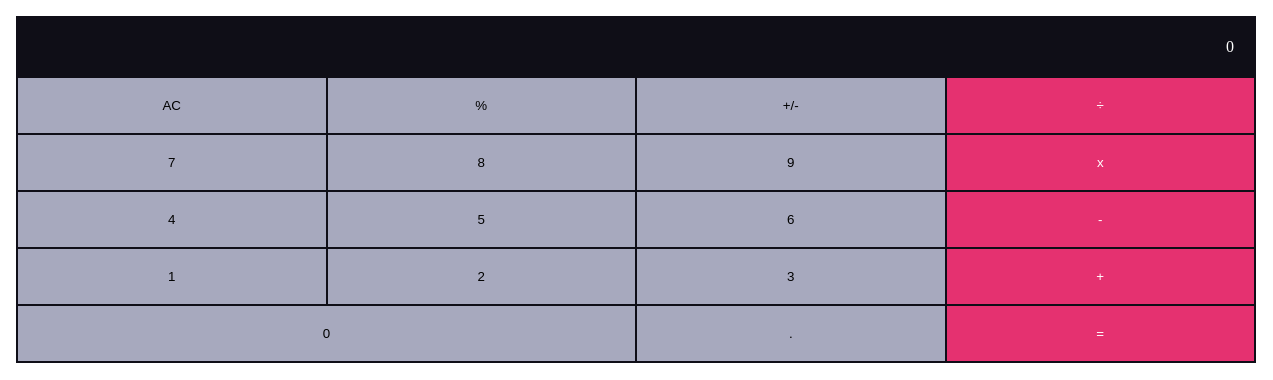
Test: Testing user interactions › Testing the multiply operation
Click the button "7". click: (172, 162)
box: [17, 134, 326, 191]
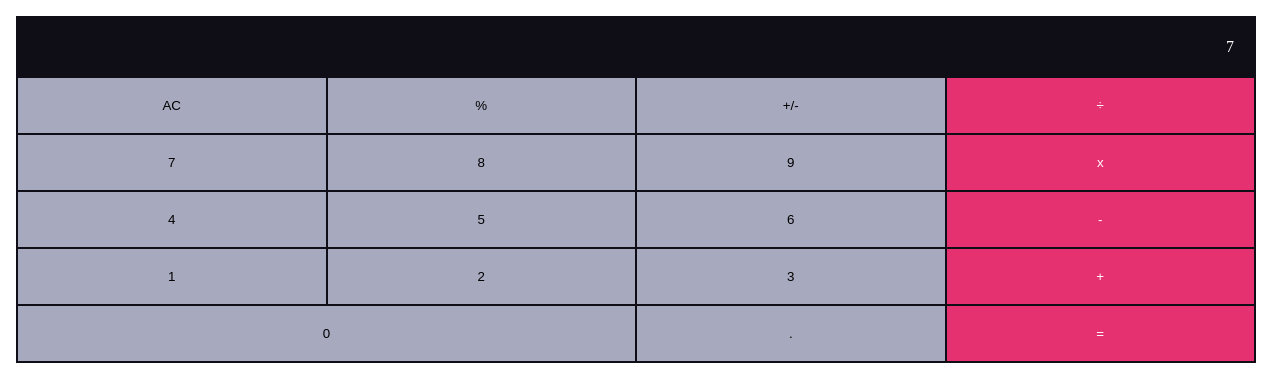
Click the button "x". click: (1100, 162)
box: [946, 134, 1255, 191]
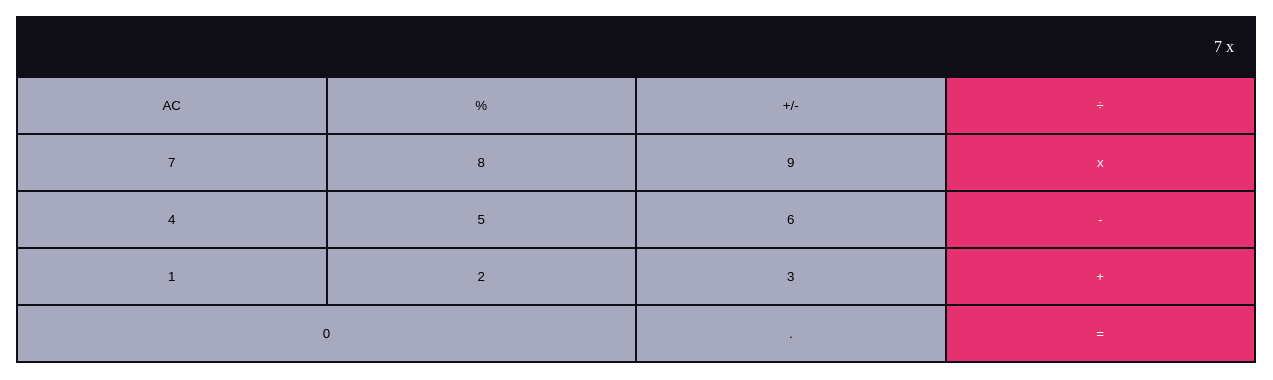
Click the button "7". click: (172, 162)
box: [17, 134, 326, 191]
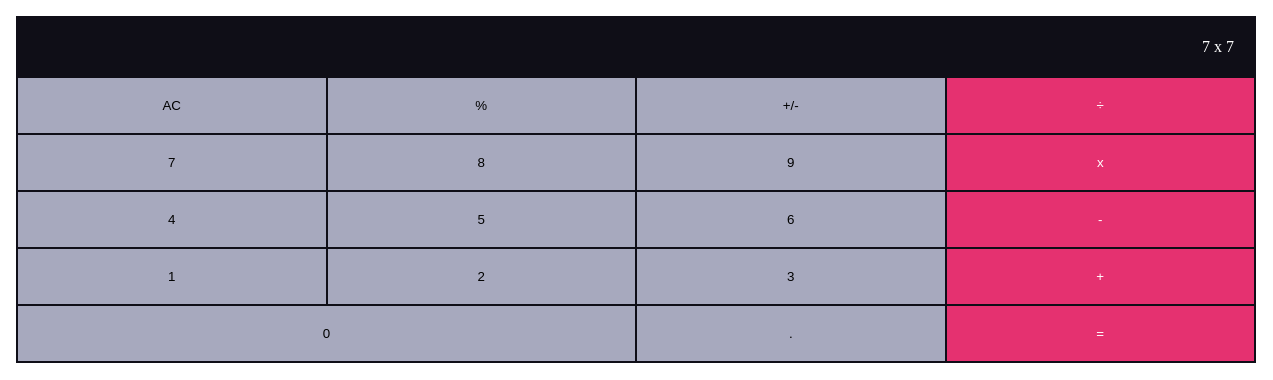
Click the button "=". click: (1100, 334)
box: [946, 305, 1255, 362]
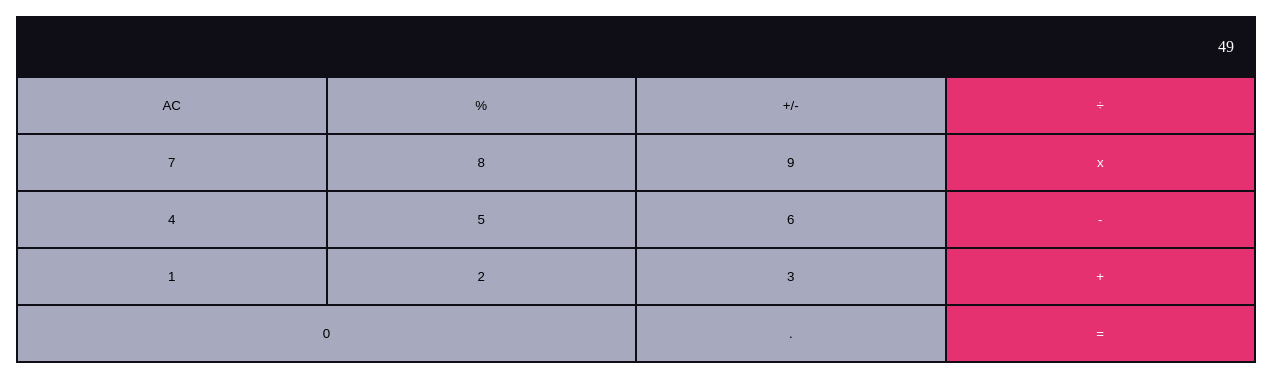
Now the text with test id "calcScreen" reads "49", box [1218, 38, 1234, 55]
